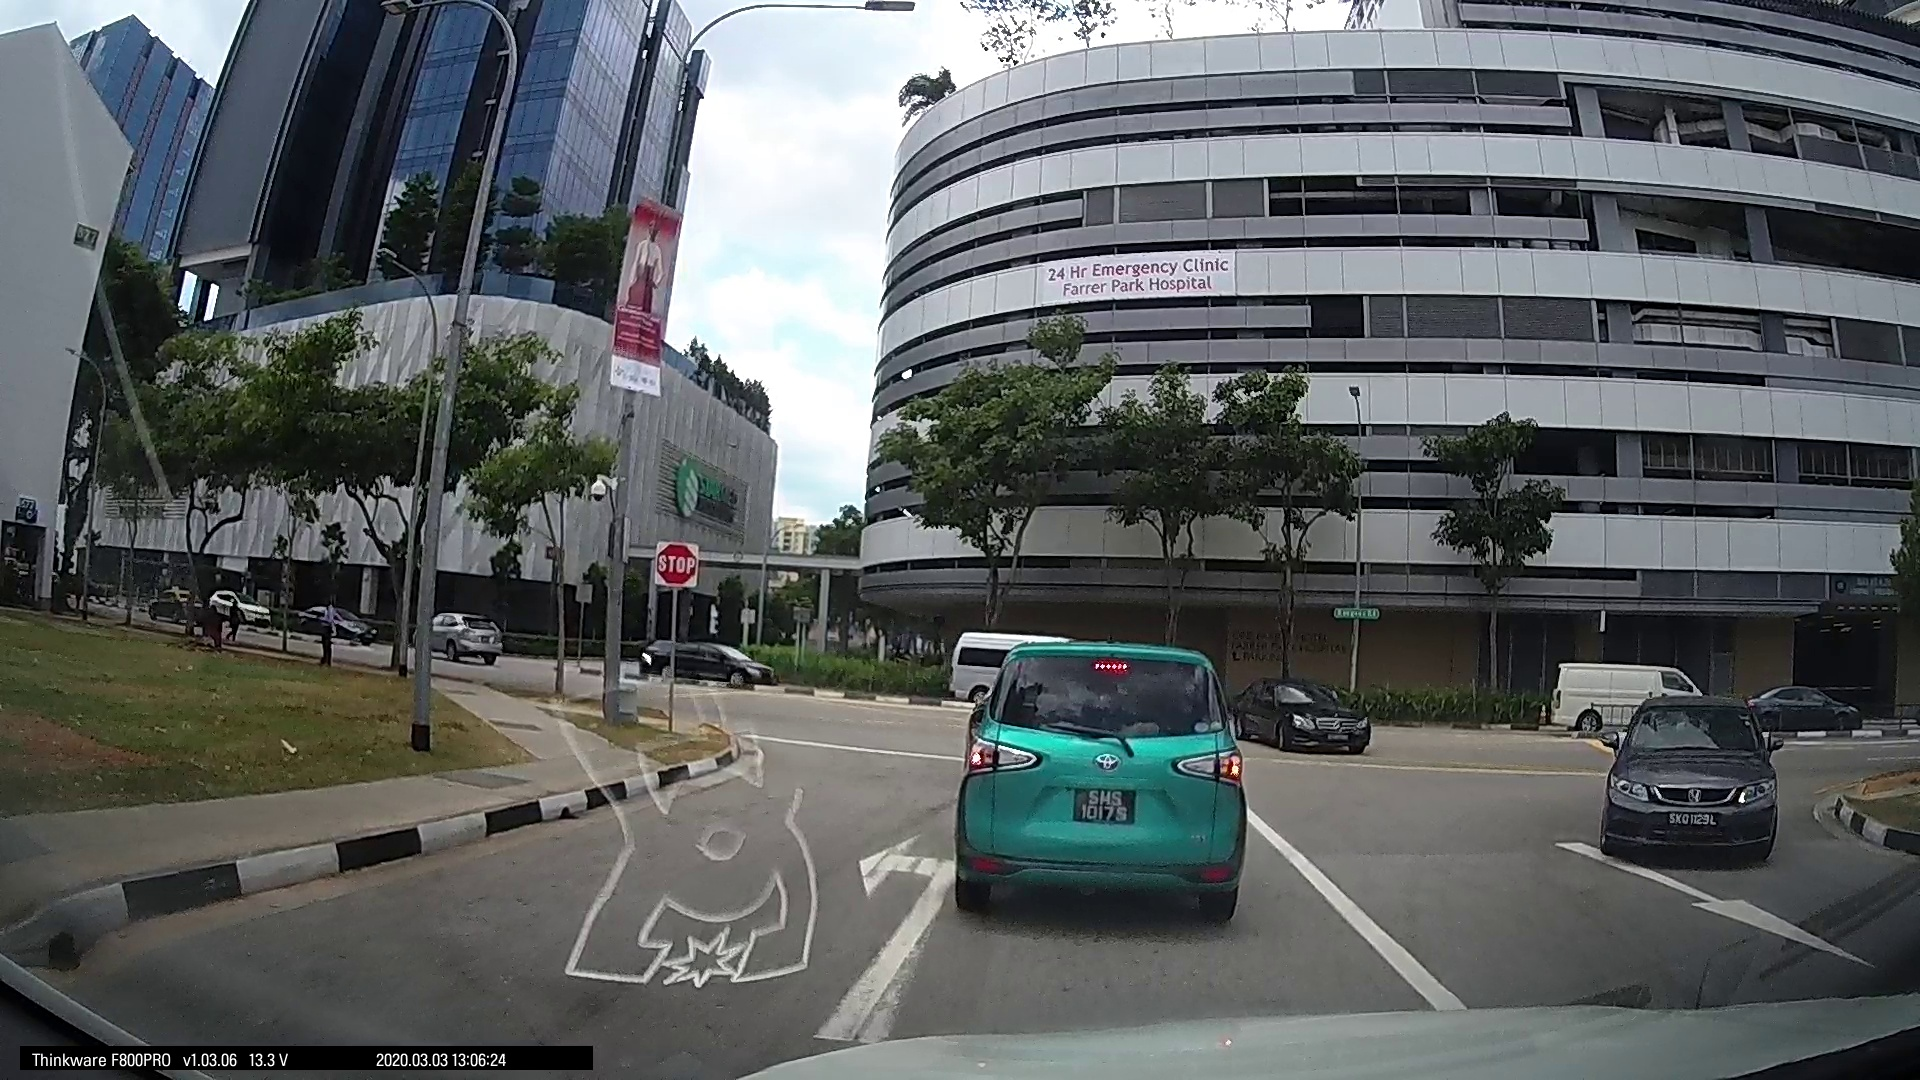Light Vehicle: (942, 622, 1247, 924), (1588, 690, 1784, 869), (1544, 654, 1692, 738), (1245, 671, 1374, 754), (640, 632, 773, 684), (1747, 679, 1865, 738), (427, 605, 504, 669)
